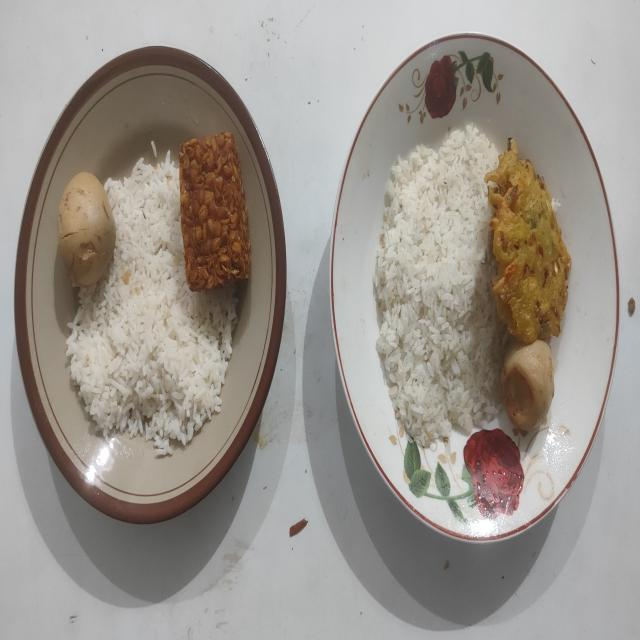nasi_putih: (66, 159, 239, 456), (372, 126, 498, 447)
tempe_goreng: (178, 132, 250, 291)
